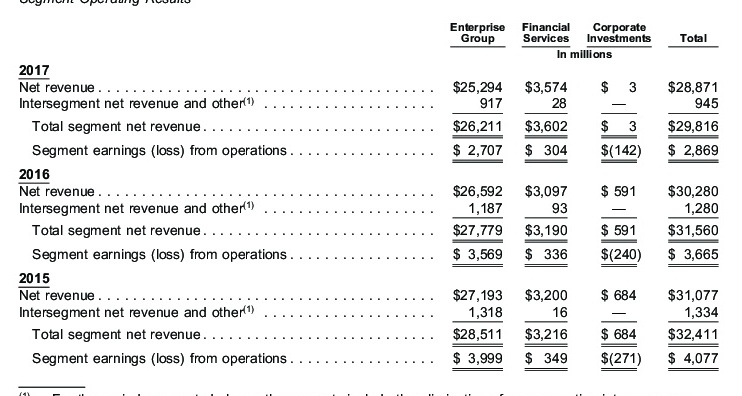table: (0, 0, 742, 396)
